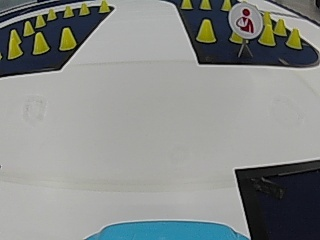cone: (258, 16, 275, 45), (196, 19, 216, 42), (8, 30, 22, 58), (59, 28, 76, 50), (33, 32, 49, 54), (286, 28, 302, 49), (274, 18, 286, 35), (23, 21, 34, 35), (35, 14, 46, 27), (46, 7, 57, 20), (79, 3, 90, 15), (98, 1, 109, 13), (63, 5, 74, 17), (180, 0, 193, 10), (199, 0, 211, 10), (220, 0, 231, 10)
patient: (229, 5, 258, 34)
